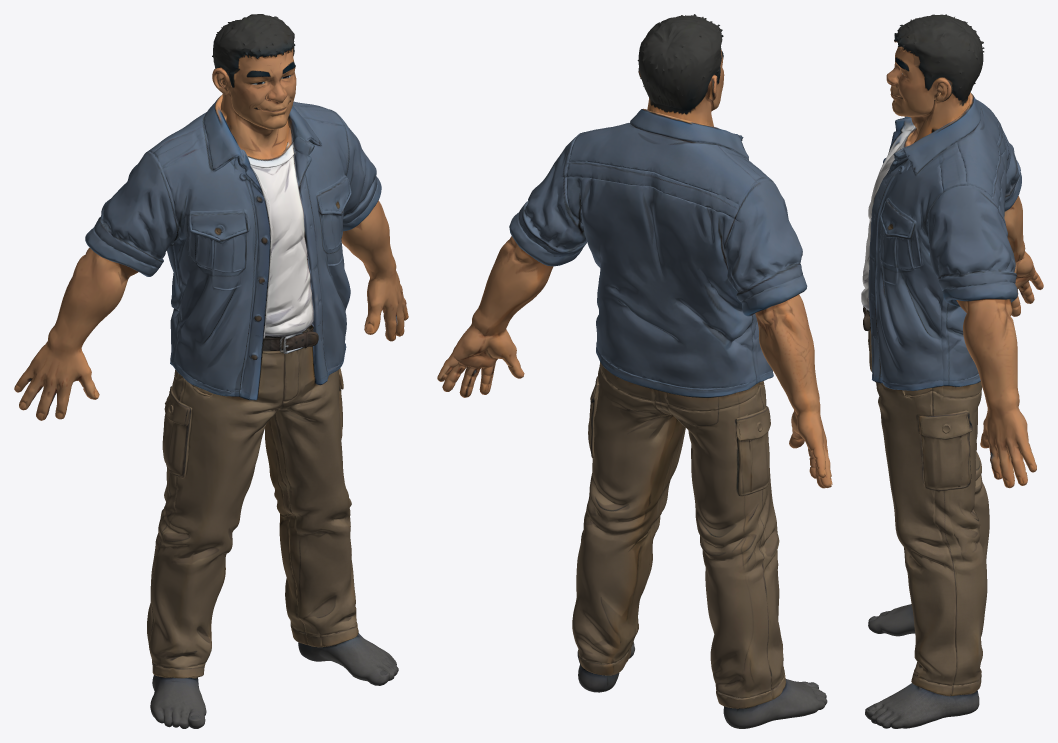
Rendered from dad_front.glb.
The picture shows the model from 3 angles, left to right: view 1: azimuth 30°, elevation 25°; view 2: azimuth 150°, elevation 25°; view 3: azimuth 270°, elevation 25°; orthographic projection. The views are drawn at different scales.
Parts seen in each view (by area): view 1: tripo_node_201b97e8-8f55-45c7-b91d-42dc77baf57e; view 2: tripo_node_201b97e8-8f55-45c7-b91d-42dc77baf57e; view 3: tripo_node_201b97e8-8f55-45c7-b91d-42dc77baf57e.
Part boxes in pixels (x1,y1,x2,y2): tripo_node_201b97e8-8f55-45c7-b91d-42dc77baf57e: [14, 14, 408, 728]; tripo_node_201b97e8-8f55-45c7-b91d-42dc77baf57e: [437, 14, 832, 728]; tripo_node_201b97e8-8f55-45c7-b91d-42dc77baf57e: [861, 14, 1043, 728].
Size of the model in its own units: 1.06 by 1.74 by 0.4379.
1 material, 1 textured.
